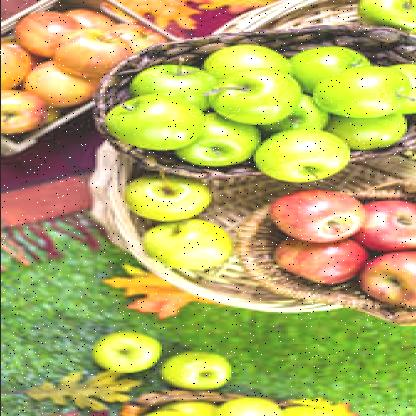apple: (104, 94, 203, 150), (270, 186, 364, 240), (272, 232, 368, 284), (260, 124, 344, 182), (312, 62, 404, 114), (151, 218, 233, 270), (124, 174, 216, 220), (218, 72, 302, 122), (188, 108, 258, 166), (141, 63, 216, 116), (96, 330, 171, 373), (30, 58, 104, 101), (60, 29, 124, 76), (354, 251, 414, 301), (22, 11, 89, 54), (354, 200, 414, 248), (164, 348, 230, 390)
